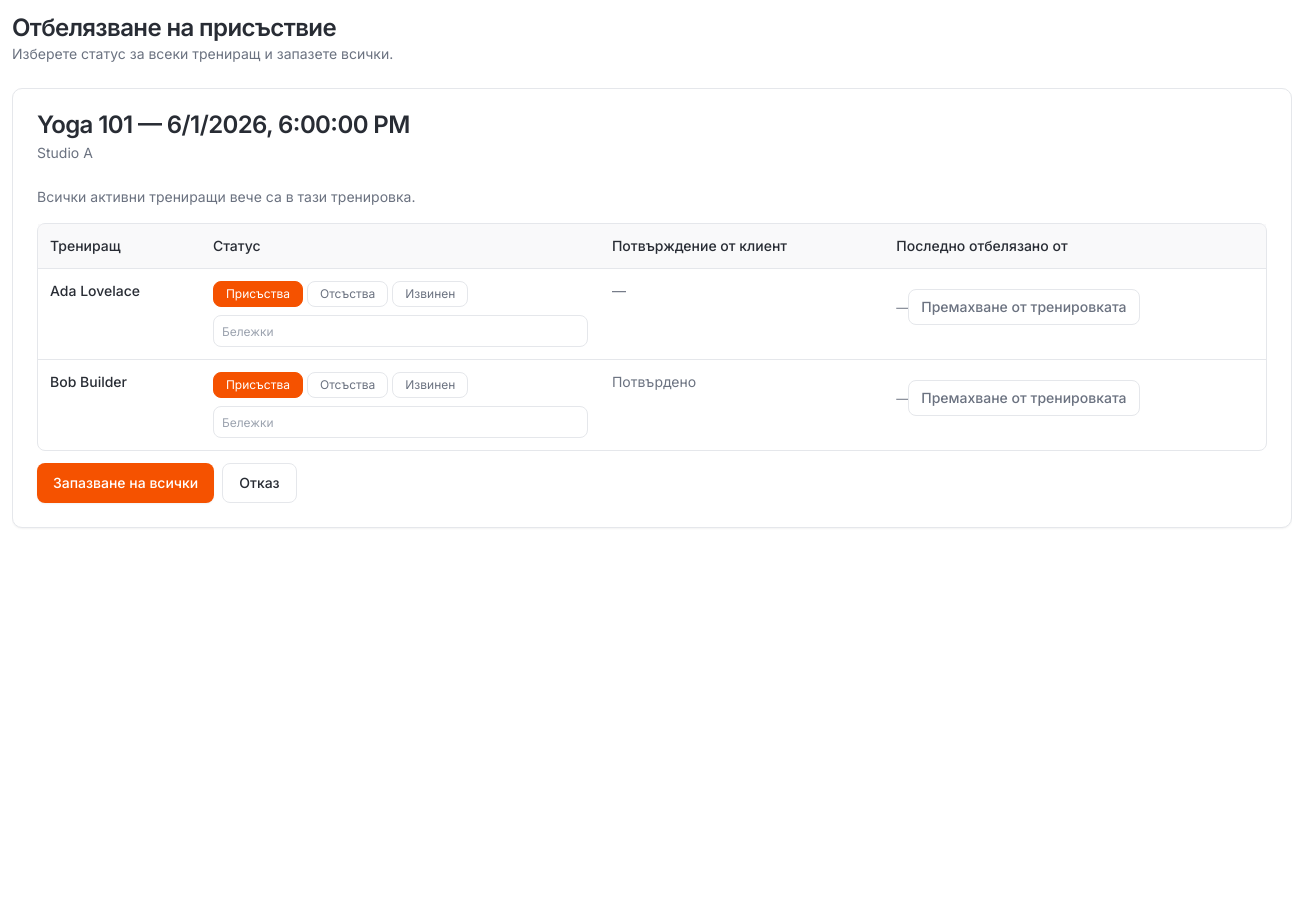
AttendancePage — toggle group + Save All › Save All sends a single PUT with all current drafts
The width and height of the screenshot is (1292, 912).
Check: the text "Ada Lovelace" is shown, box [38,268,201,360]
Click the button "Запазване на всички" at (126, 483), box [37,463,214,503]
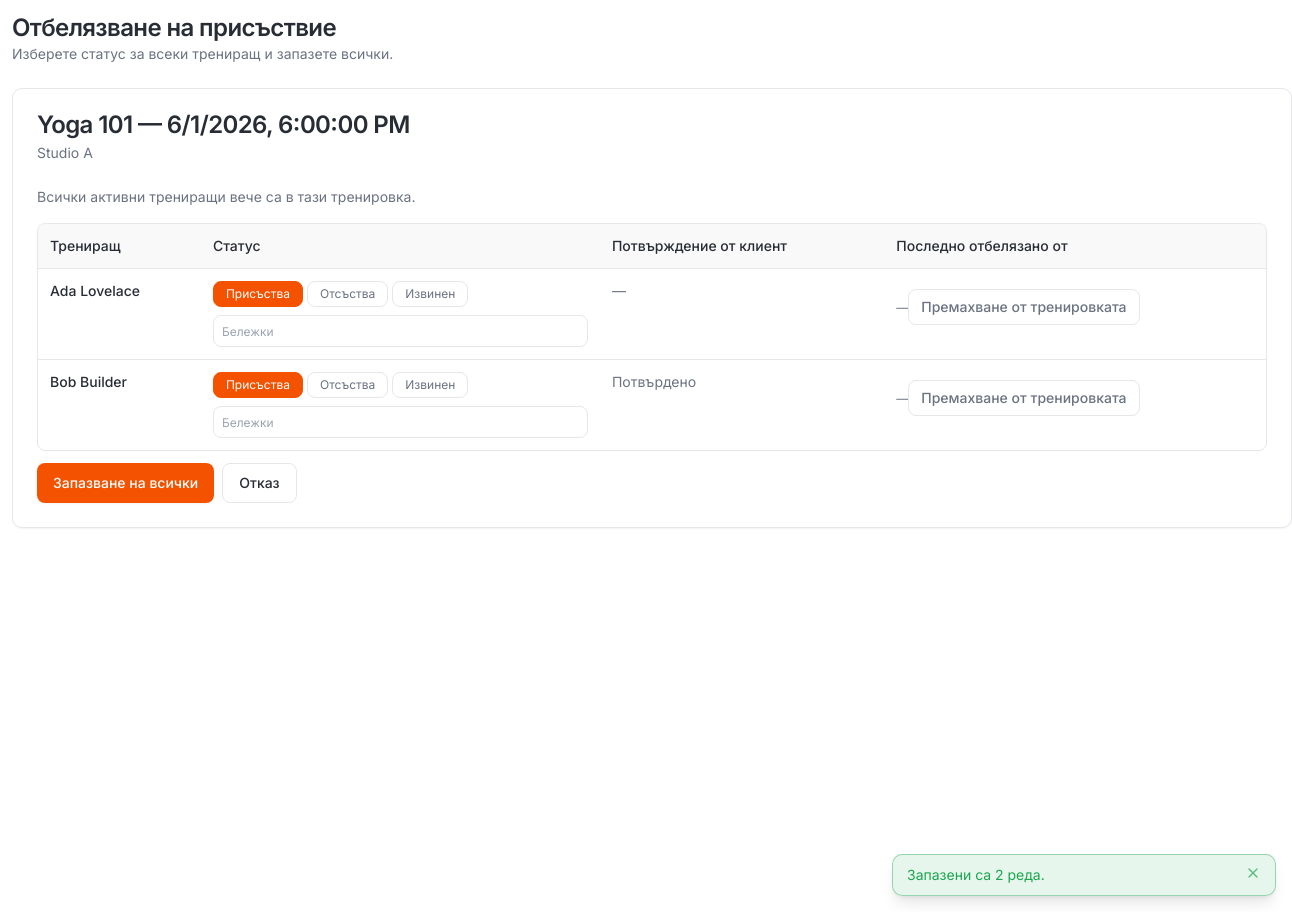
Check: the text "Запазени са 2 реда." is shown, box [907,866,1045,883]
